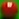red: (0, 0, 19, 19)
